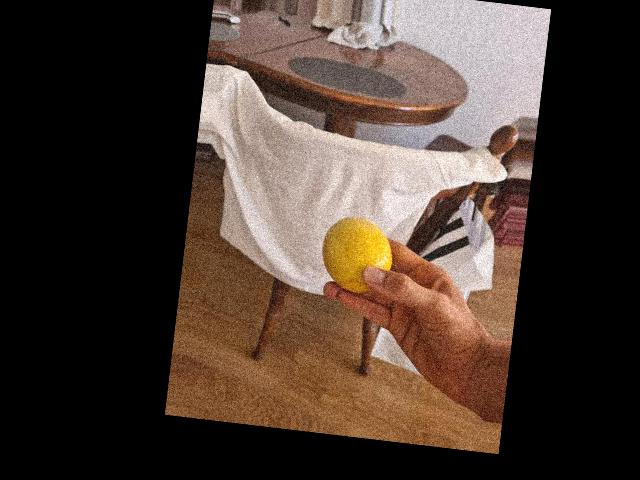lemon: (319, 215, 393, 294)
